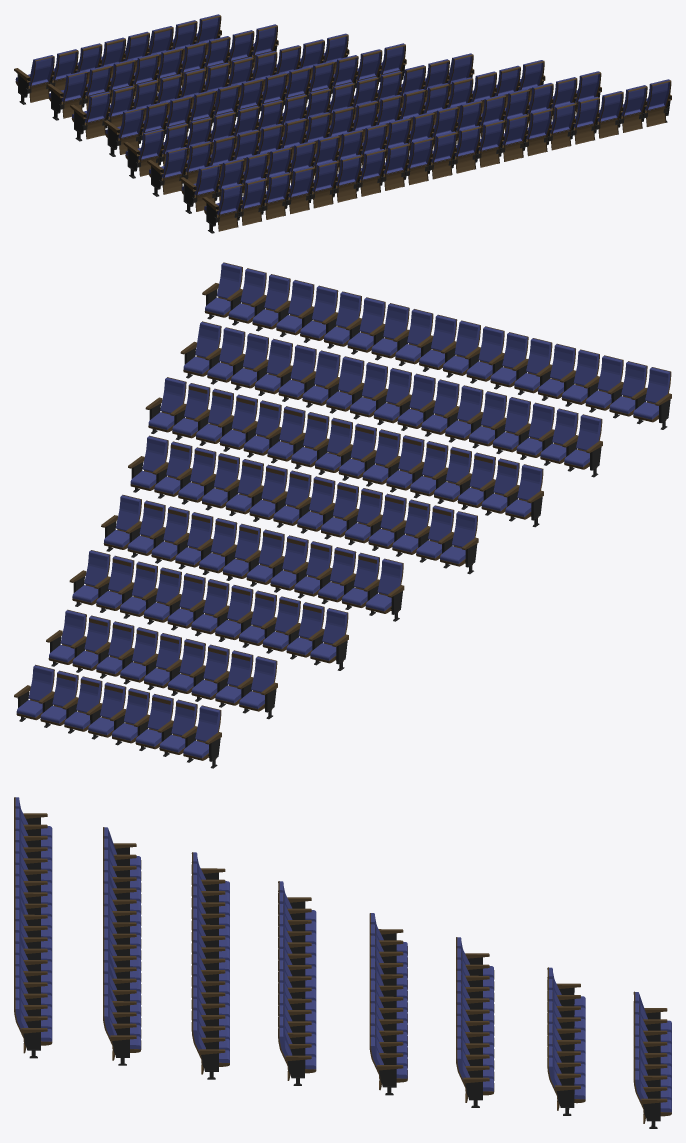
The model's file is LowPoly_MiddleCenter_Seating.fbx.
3 views of the same model, one above another, from view 1: azimuth 30°, elevation 25°; view 2: azimuth 150°, elevation 25°; view 3: azimuth 270°, elevation 25° (orthographic). The views are drawn at different scales.
Parts seen in each view (by area): view 1: Middle Center; view 2: Middle Center; view 3: Middle Center.
Boxes of the visible parts, box(x1,y1,x2,y2) form: Middle Center: box(14, 14, 671, 233); Middle Center: box(14, 262, 671, 768); Middle Center: box(14, 797, 671, 1128).
Size of the model in its own units: 978 by 380 by 1258.
